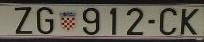-: (146, 18, 156, 24)
1: (109, 8, 117, 35)
2: (126, 6, 144, 35)
9: (82, 7, 100, 35)
C: (160, 8, 176, 35)
G: (37, 7, 53, 34)
K: (181, 9, 197, 35)
Z: (14, 7, 33, 34)
